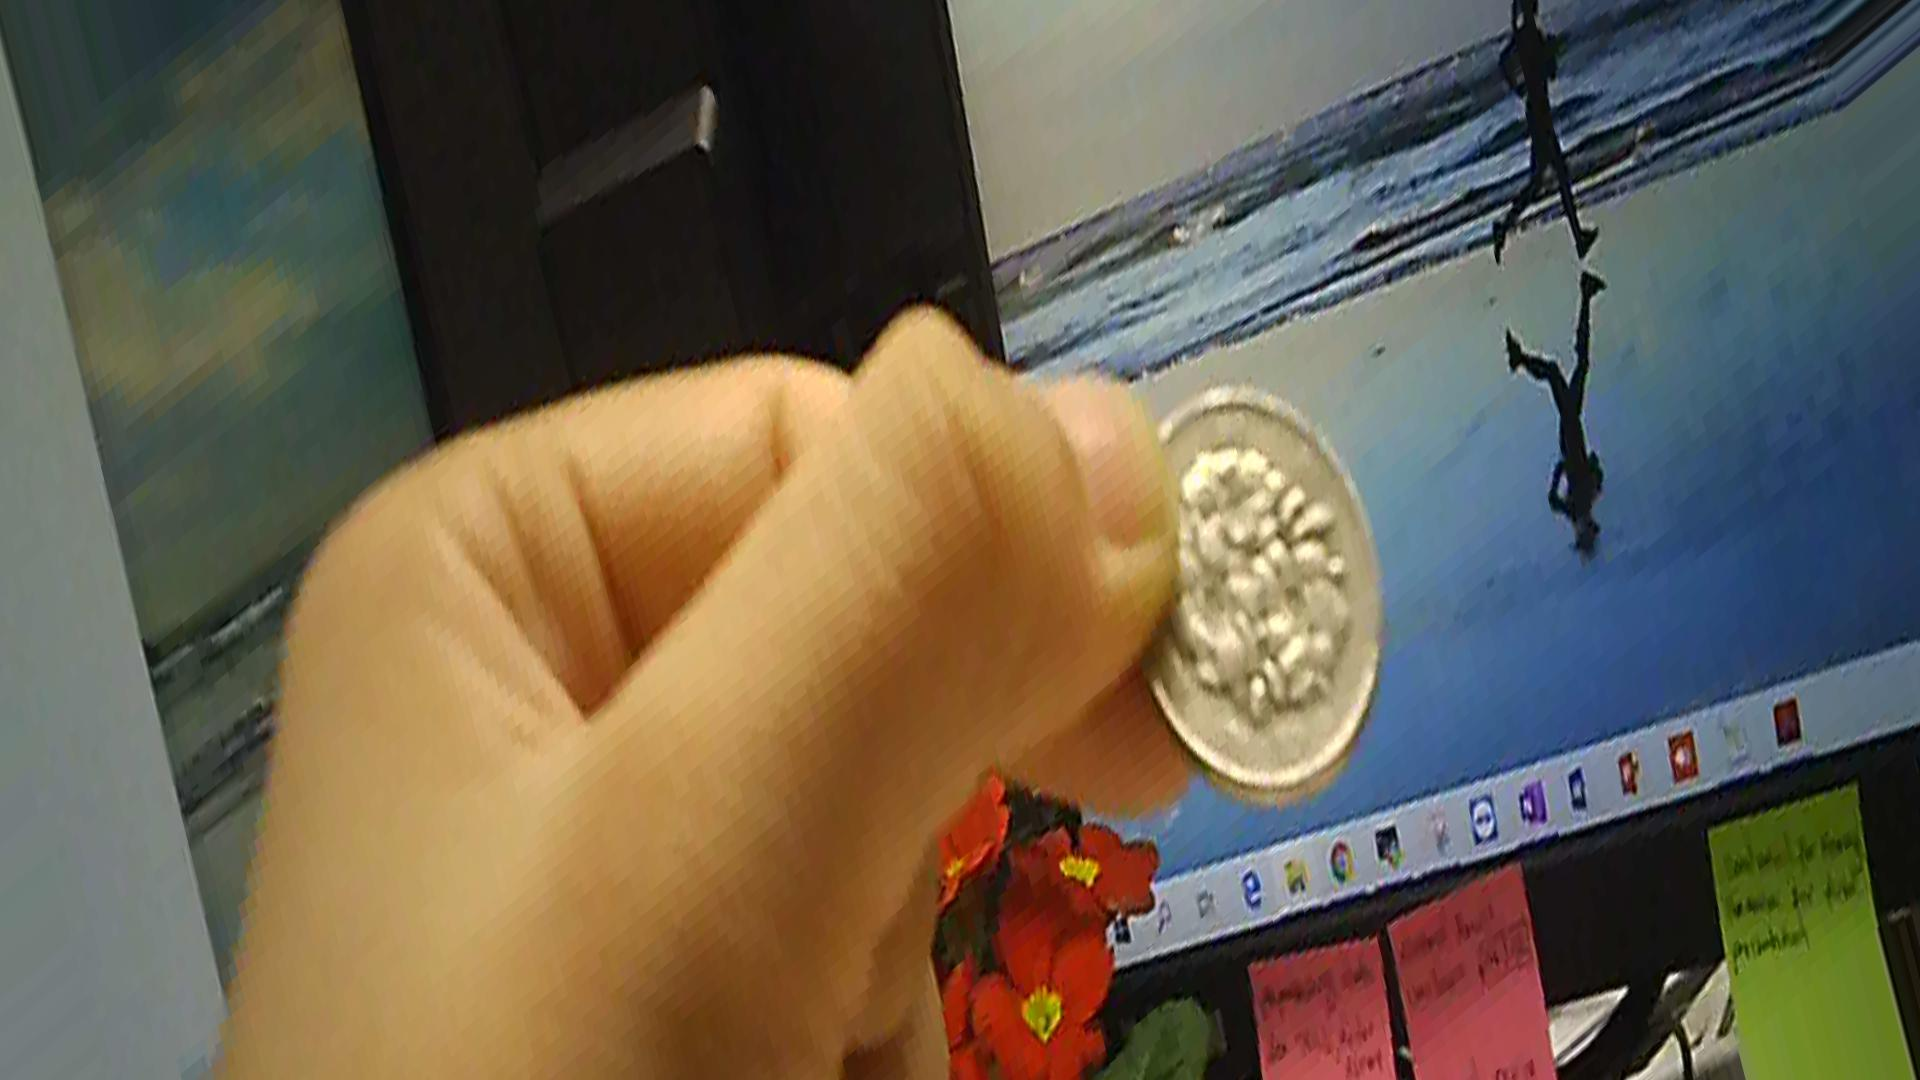100 Yen: (1120, 378, 1395, 802)
